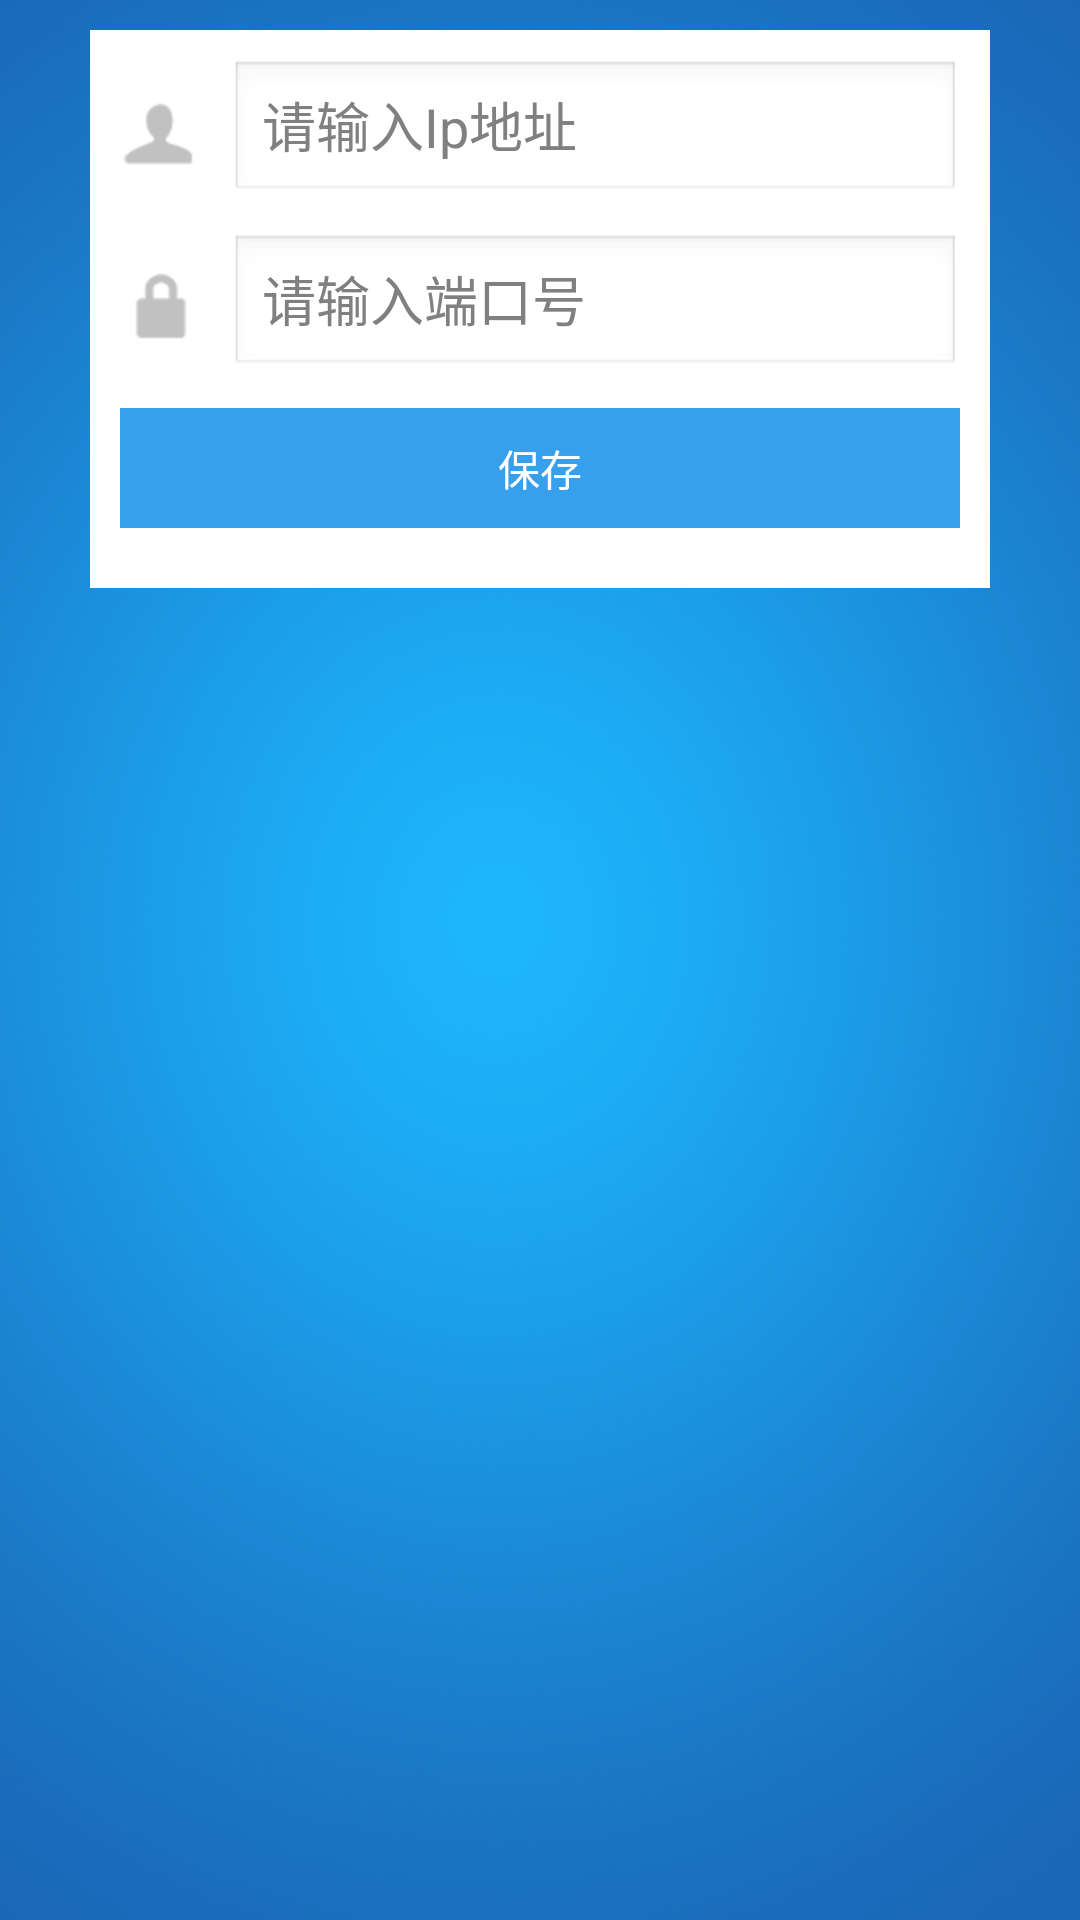

Where icons sit on this 1080*1920 app screen, as (x1, y1, x2, y2):
login password: (136, 274, 186, 338)
login user: (125, 104, 192, 164)
